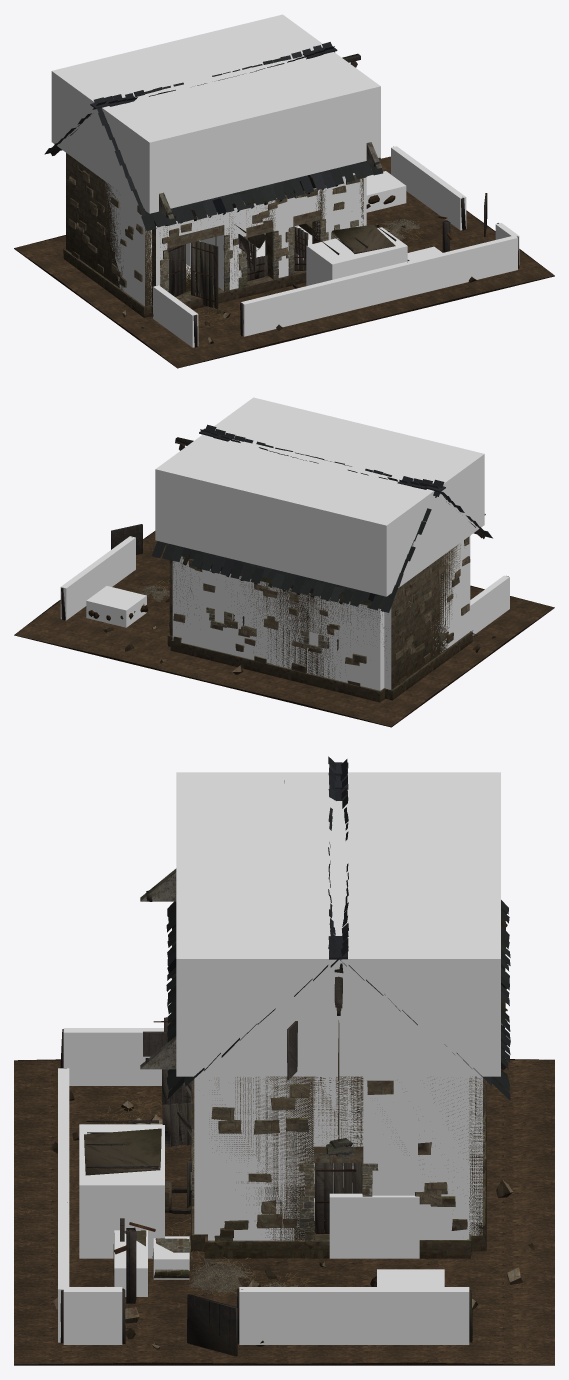
File: bld_stable_shared_tex.glb
The picture shows the model from 3 angles, top to bottom: view 1: azimuth 30°, elevation 25°; view 2: azimuth 150°, elevation 25°; view 3: azimuth 270°, elevation 25°; orthographic projection. The views are drawn at different scales.
Parts seen in each view (by area): view 1: col_roof, ground_mud, col_fence.002, lite_merge_03, lite_merge_06, lite_merge_01, col_coach, col_wall_W_0, col_fence, wall_S_stones, col_wall_S_6, door_cart_E (+10 smaller); view 2: col_roof, ground_mud, lite_merge_03, col_wall_N_0, lite_merge_06, col_wall_W_0, col_fence, col_dung, col_fence.003, yard_gate, wall_N_stones; view 3: col_roof, ground_mud, lite_merge_07, col_fence, col_wall_E_2, col_wall_E_0, col_coach, col_stall_4, lite_merge_06, col_fence.003, lite_merge_03, col_fence.001 (+18 smaller).
Boxes of the visible parts, x1,y1,x2,y2 form: col_roof: (51, 14, 380, 213); ground_mud: (14, 156, 554, 368); col_fence.002: (241, 235, 517, 336); lite_merge_03: (63, 153, 476, 343); lite_merge_06: (44, 42, 383, 231); lite_merge_01: (151, 175, 363, 315); col_coach: (306, 227, 407, 285); col_wall_W_0: (105, 182, 151, 306); col_fence: (391, 146, 466, 230); wall_S_stones: (160, 219, 358, 292); col_wall_S_6: (314, 173, 363, 239); door_cart_E: (191, 241, 218, 308); col_roof: (155, 397, 484, 596); ground_mud: (14, 531, 554, 727); lite_merge_03: (103, 536, 495, 702); col_wall_N_0: (172, 556, 384, 690); lite_merge_06: (151, 424, 492, 612); col_wall_W_0: (384, 536, 470, 689); col_fence: (60, 536, 135, 620); col_dung: (86, 586, 146, 627); col_fence.003: (470, 575, 509, 635); yard_gate: (111, 524, 142, 554); wall_N_stones: (206, 607, 327, 650); col_roof: (176, 772, 500, 1076); ground_mud: (14, 1059, 554, 1365); lite_merge_07: (204, 1076, 471, 1258); col_fence: (239, 1287, 469, 1344); col_wall_E_2: (363, 1076, 469, 1239); col_wall_E_0: (208, 1076, 313, 1240); col_coach: (79, 1124, 164, 1258); col_stall_4: (329, 1193, 419, 1258); lite_merge_06: (166, 756, 510, 1100); col_fence.003: (63, 1028, 163, 1085); lite_merge_03: (50, 1076, 534, 1349); col_fence.001: (63, 1287, 122, 1344).
Bounding box in the file's own units: 16 × 7.85 × 12.
Materials: 16 (13 with a texture image).
